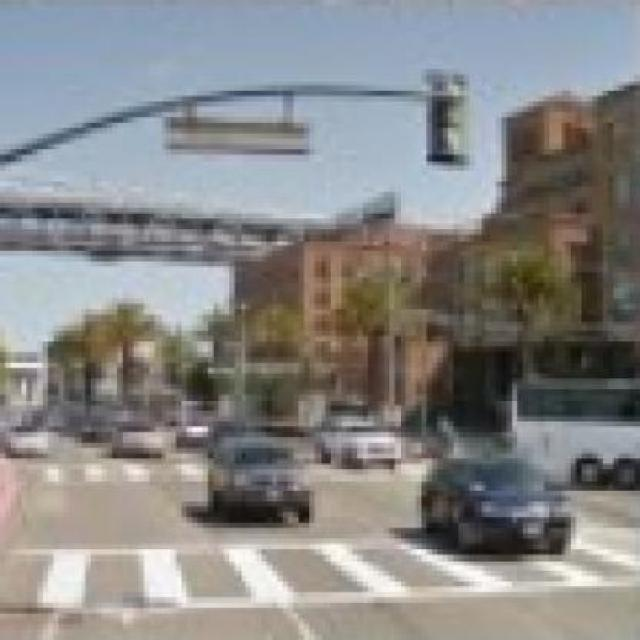crosswalk: (36, 536, 623, 613)
